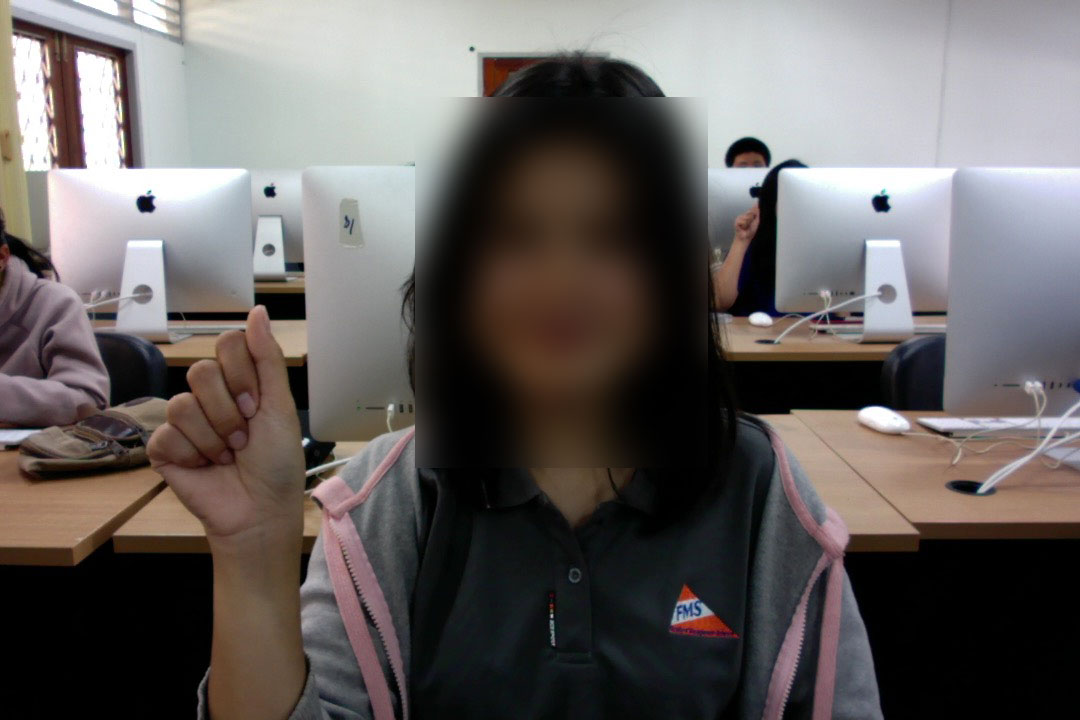or: (141, 294, 311, 551)
